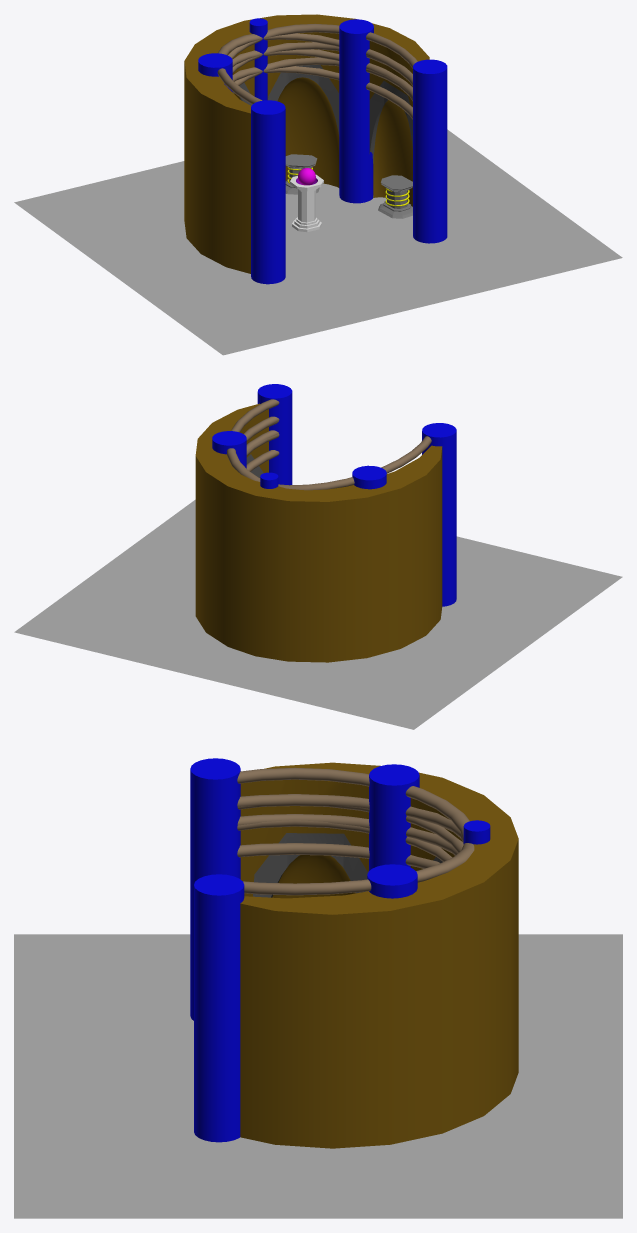
File: maproomv3.fbx
3 views of the same model, one above another, from view 1: azimuth 30°, elevation 25°; view 2: azimuth 150°, elevation 25°; view 3: azimuth 270°, elevation 25° (orthographic). The views are drawn at different scales.
Parts seen in each view (by area): view 1: floor, treebase, pillar3, pillar4, pillar2, vine3, pedestal (×2), vine6, vine1, mapplatform1, vine4, pillar1 (+3 smaller); view 2: treebase, floor, pillar4, pillar3, vine3, vine6, pillar2, pillar5; view 3: floor, treebase, pillar3, pillar4, vine6, pillar5, vine3, vine5, vine2, pillar2, vine1, vine4 (+1 smaller).
Part boxes in pixels (x1,y1,x2,y2): floor: [14, 129, 622, 355]; treebase: [184, 14, 429, 273]; pillar3: [413, 59, 447, 243]; pillar4: [251, 100, 285, 284]; pillar2: [339, 19, 373, 203]; vine3: [217, 33, 412, 104]; pedestal (×2): [285, 154, 412, 218]; vine6: [228, 23, 417, 68]; vine1: [232, 66, 412, 119]; mapplatform1: [290, 174, 323, 232]; vine4: [232, 49, 412, 98]; pillar1: [249, 18, 267, 100]; treebase: [195, 403, 442, 662]; floor: [14, 499, 622, 729]; pillar4: [422, 423, 456, 606]; pillar3: [257, 384, 292, 485]; vine3: [244, 416, 431, 490]; vine6: [227, 399, 279, 481]; pillar2: [212, 431, 246, 468]; pillar5: [352, 465, 386, 489]; floor: [14, 934, 622, 1218]; treebase: [240, 762, 518, 1148]; pillar3: [194, 874, 244, 1142]; pillar4: [190, 758, 240, 1020]; vine6: [237, 794, 474, 895]; pillar5: [369, 764, 419, 870]; vine3: [237, 767, 469, 842]; vine5: [237, 843, 440, 868]; vine2: [237, 814, 457, 855]; pillar2: [367, 864, 417, 898]; vine1: [237, 820, 452, 861]; vine4: [237, 794, 463, 852].
Size of the model in its own units: 32.38 by 13.11 by 29.31.
